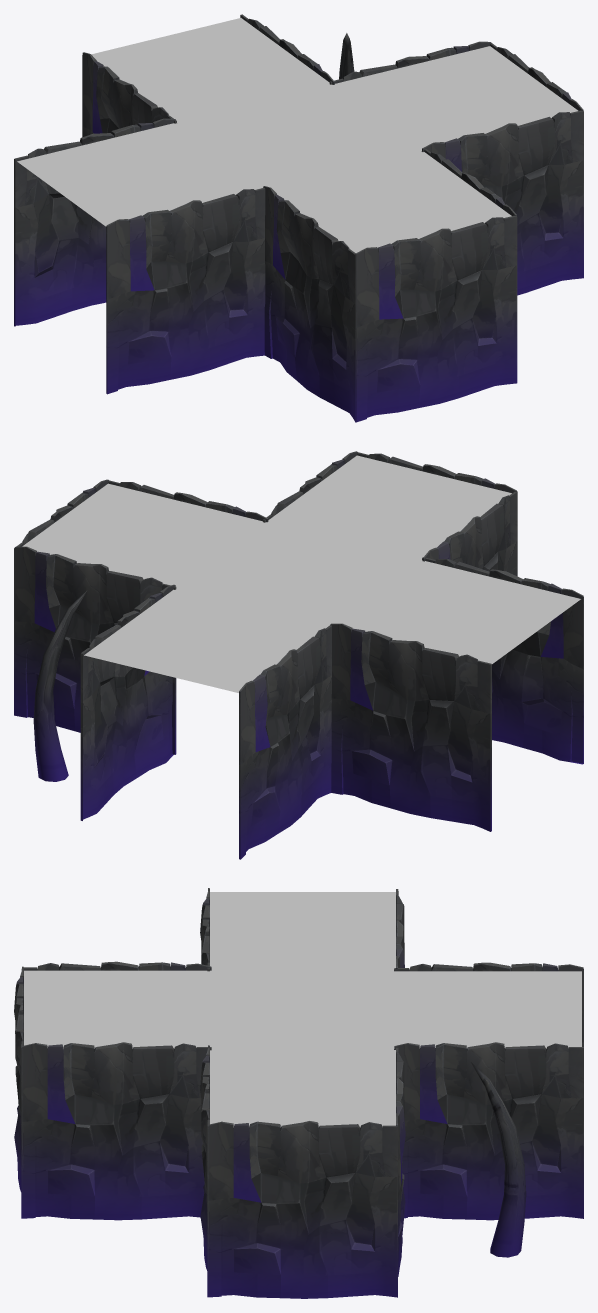
The model's file is Floor_Plus.FBX.
3 views of the same model, one above another, from view 1: azimuth 30°, elevation 25°; view 2: azimuth 150°, elevation 25°; view 3: azimuth 270°, elevation 25° (orthographic). The views are drawn at different scales.
Parts seen in each view (by area): view 1: Group001, floor; view 2: Group001, floor, Cone001; view 3: Group001, floor, Cone001.
Boxes of the visible parts, bbox=[...] form: Group001: bbox=[14, 14, 583, 422]; floor: bbox=[17, 18, 578, 252]; Group001: bbox=[14, 451, 583, 859]; floor: bbox=[22, 455, 580, 692]; Cone001: bbox=[33, 591, 86, 781]; Group001: bbox=[14, 888, 583, 1298]; floor: bbox=[24, 892, 581, 1127]; Cone001: bbox=[471, 1062, 526, 1257].
Size of the model in its own units: 1206 by 425 by 1206.
